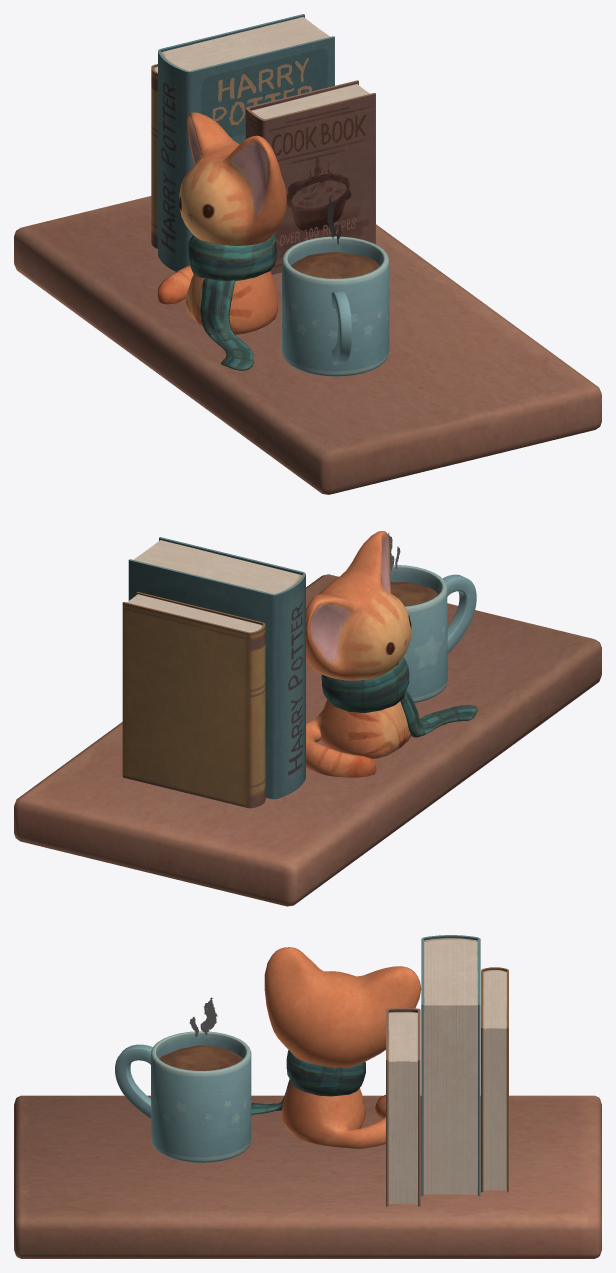
Rendered from new_books2.glb.
The picture shows the model from 3 angles, top to bottom: view 1: azimuth 30°, elevation 25°; view 2: azimuth 150°, elevation 25°; view 3: azimuth 270°, elevation 25°; orthographic projection. The views are drawn at different scales.
Parts seen in each view (by area): view 1: shelf, book1, book2, cat, cup, scarf1, scarf2, book3, Cube.004; view 2: shelf, book3, book1, cat, cup, scarf1, scarf2, Cube.004; view 3: shelf, cat, book1, cup, book2, book3, scarf1, Cube.004, steam.
Part boxes in pixels (left/top/right/bottom): shelf: left=14, top=196, right=601, bottom=494; book1: left=158, top=14, right=334, bottom=271; book2: left=245, top=80, right=375, bottom=274; cat: left=157, top=112, right=286, bottom=334; cup: left=282, top=236, right=389, bottom=376; scarf1: left=188, top=234, right=276, bottom=281; scarf2: left=200, top=278, right=253, bottom=370; book3: left=151, top=64, right=157, bottom=248; Cube.004: left=331, top=291, right=352, bottom=364; shelf: left=14, top=574, right=601, bottom=906; book3: left=122, top=591, right=265, bottom=808; book1: left=128, top=537, right=305, bottom=799; cat: left=306, top=531, right=411, bottom=777; cup: left=390, top=565, right=447, bottom=702; scarf1: left=321, top=656, right=409, bottom=713; scarf2: left=400, top=689, right=477, bottom=737; Cube.004: left=442, top=574, right=476, bottom=653; shelf: left=14, top=1095, right=601, bottom=1258; cat: left=264, top=947, right=421, bottom=1148; book1: left=421, top=935, right=480, bottom=1196; cup: left=151, top=1031, right=251, bottom=1162; book2: left=386, top=1008, right=420, bottom=1206; book3: left=481, top=967, right=508, bottom=1192; scarf1: left=286, top=1050, right=365, bottom=1096; Cube.004: left=115, top=1044, right=152, bottom=1118; steam: left=189, top=997, right=217, bottom=1036.
Size of the model in its own units: 4.98 by 4.19 by 9.58.
4 materials, 4 textured.
